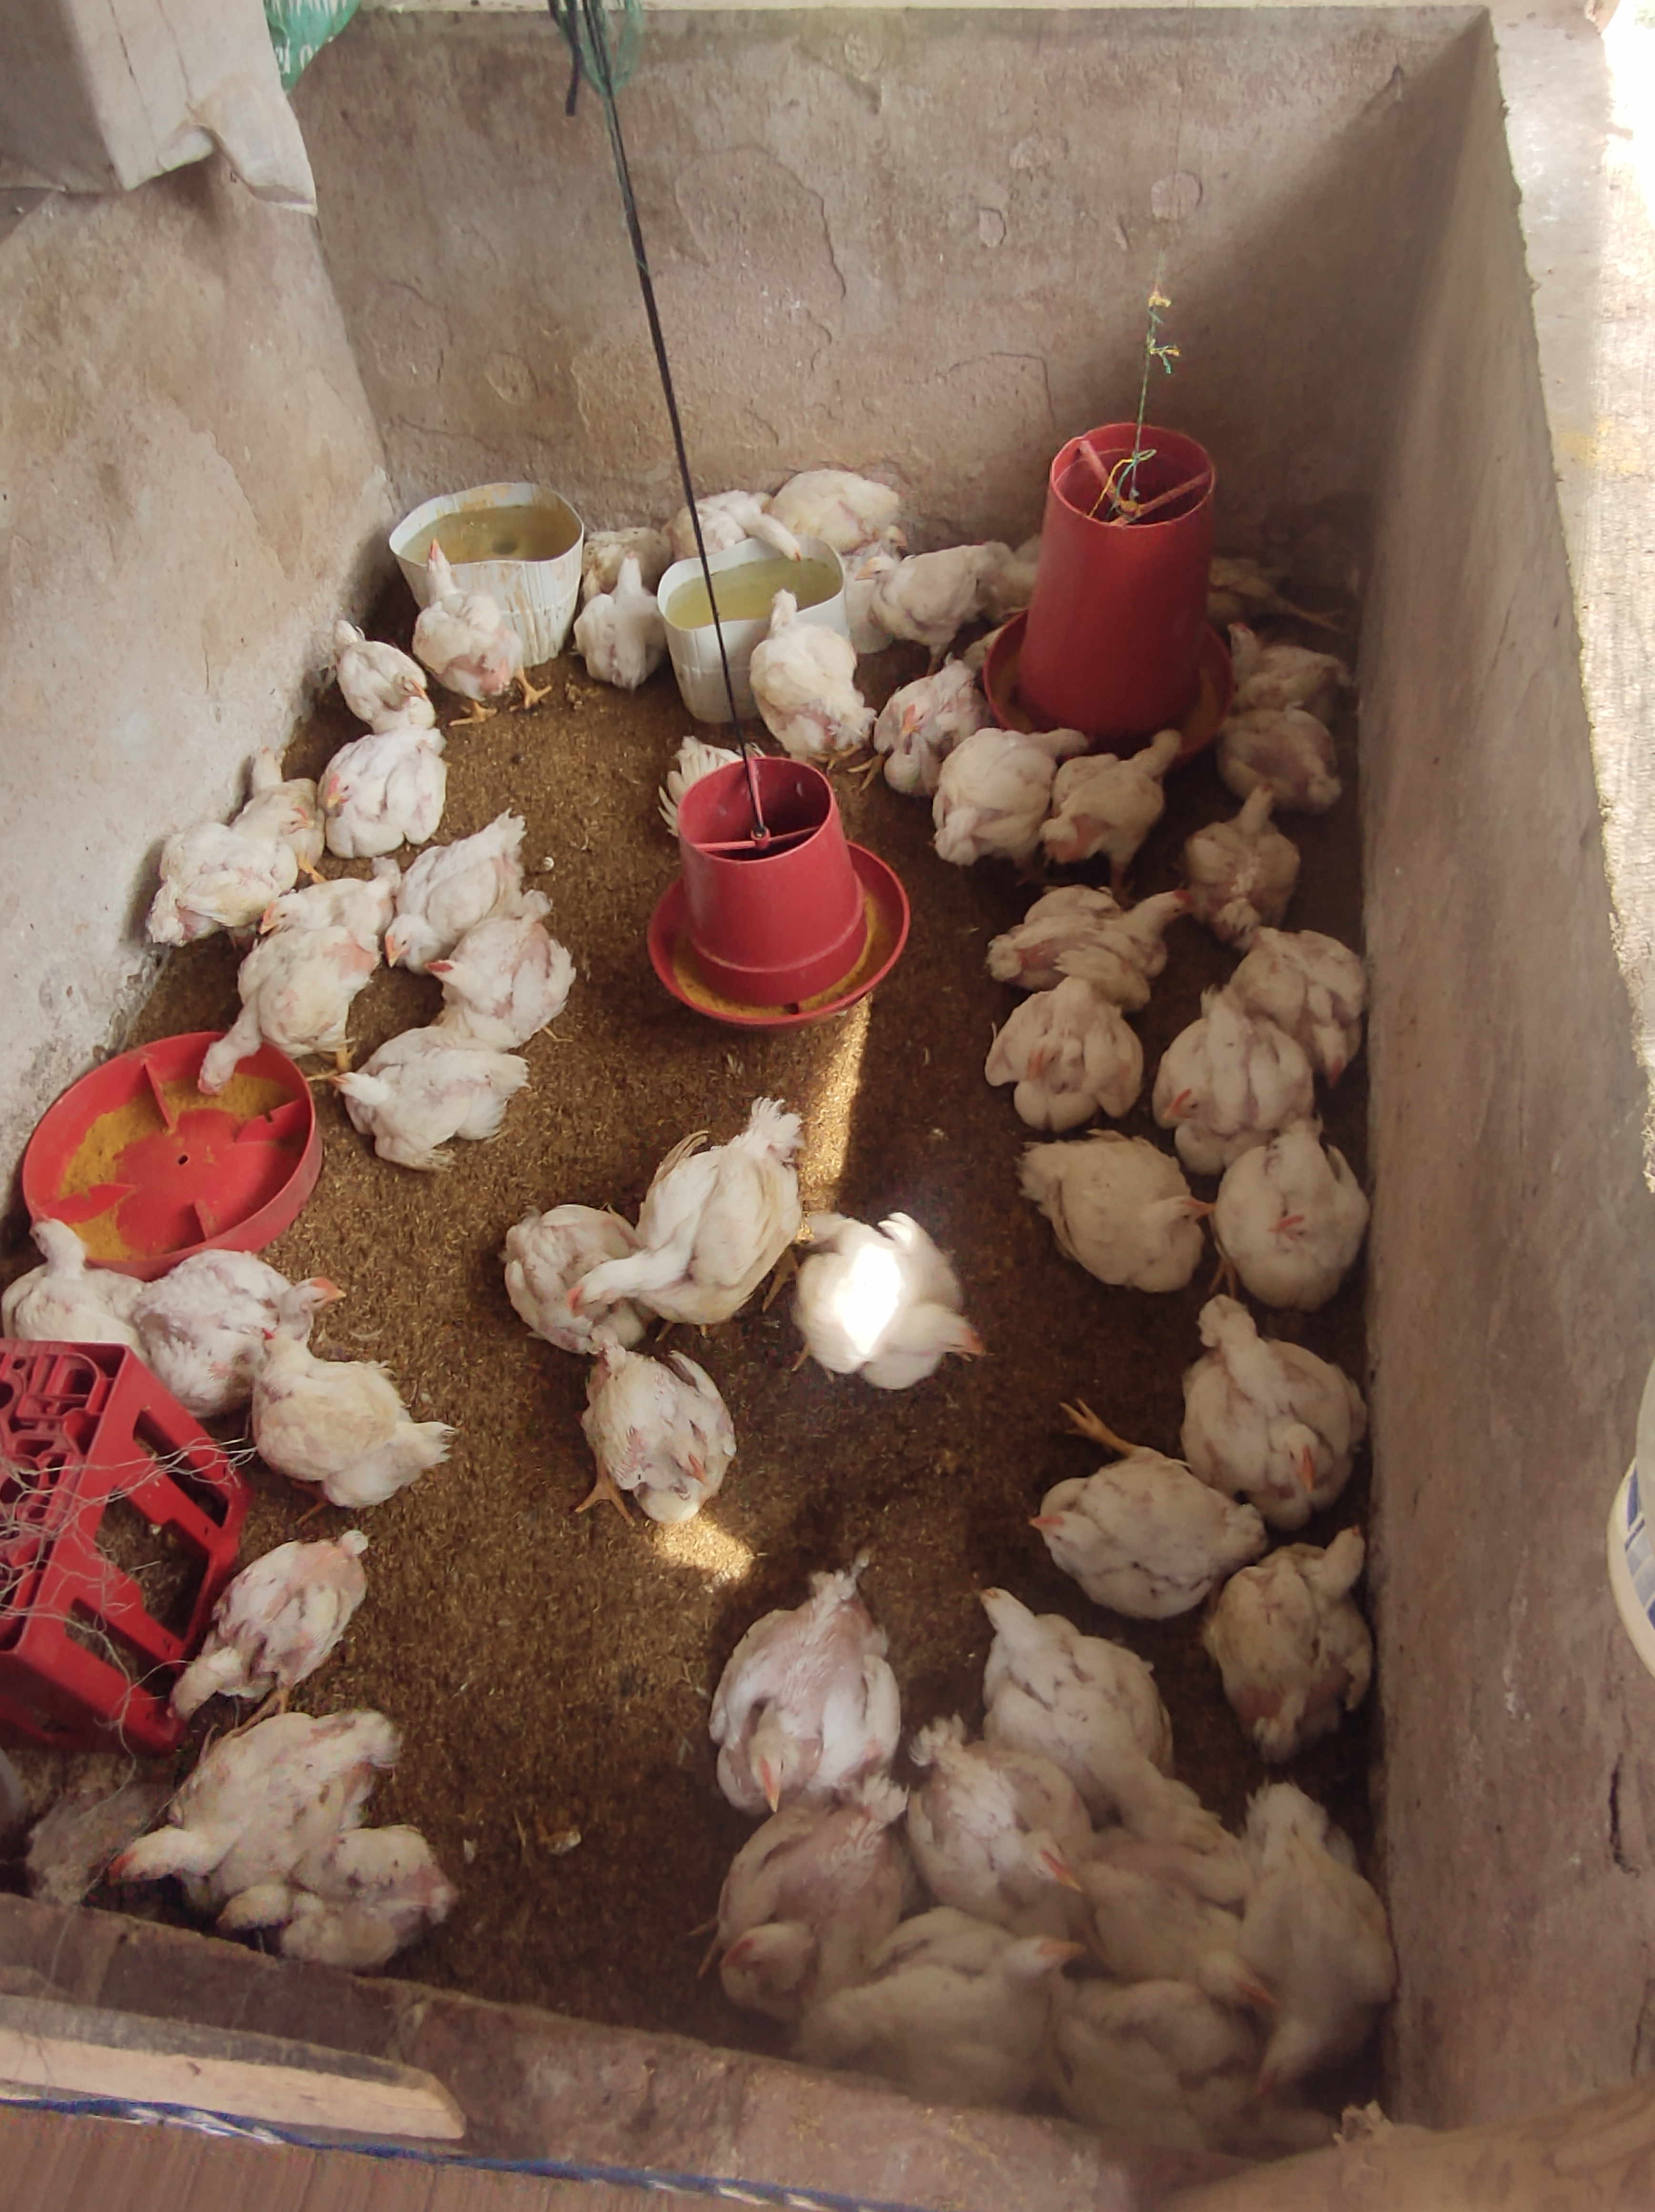Pollos: (1240, 1791, 1391, 2113), (713, 1572, 909, 1817), (567, 1104, 782, 1322), (162, 1527, 374, 1732), (972, 1581, 1173, 1781), (798, 1202, 991, 1398), (247, 1325, 452, 1506), (210, 1821, 462, 1962), (1213, 1516, 1375, 1727), (709, 1824, 880, 2019), (1022, 1136, 1213, 1290), (1020, 1456, 1201, 1619), (1222, 1122, 1372, 1315), (1203, 1336, 1359, 1513), (894, 1922, 1090, 2062), (1099, 1857, 1271, 2017), (935, 1751, 1099, 1915), (980, 976, 1153, 1130), (595, 1339, 739, 1522), (332, 1031, 532, 1162), (937, 715, 1081, 868), (101, 1760, 259, 1897), (148, 788, 316, 906), (754, 584, 871, 755), (1163, 1000, 1288, 1156), (1234, 922, 1384, 1050), (17, 1214, 162, 1344), (994, 887, 1201, 977), (193, 953, 322, 1090), (388, 817, 509, 962), (1060, 725, 1194, 852), (415, 544, 525, 697), (1205, 696, 1356, 803), (426, 915, 567, 1021), (572, 544, 675, 685), (322, 725, 436, 849), (852, 539, 1003, 630), (1201, 779, 1293, 918), (216, 1249, 355, 1332), (873, 656, 961, 784), (329, 623, 436, 727), (1222, 621, 1346, 704), (259, 876, 386, 956)
